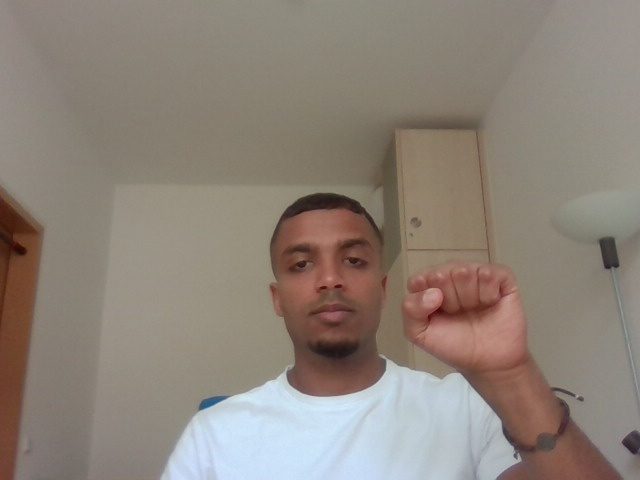maybe: (394, 253, 545, 385)
